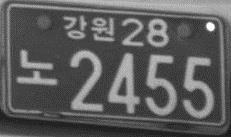2: (69, 48, 104, 112), (119, 17, 144, 47)
4: (107, 52, 140, 113)
5: (144, 53, 178, 115), (182, 55, 214, 119)
8: (146, 17, 168, 47)
강원_O: (62, 15, 115, 42)
노: (16, 48, 58, 85)
